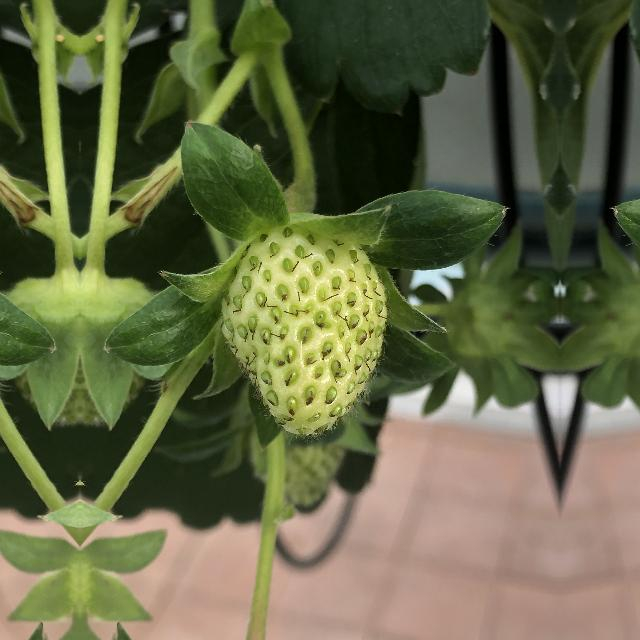Health_25: (217, 222, 401, 440)
